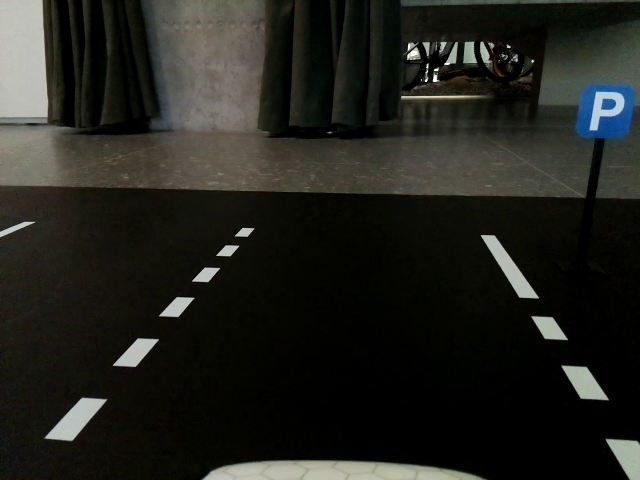park: (576, 83, 633, 137)
